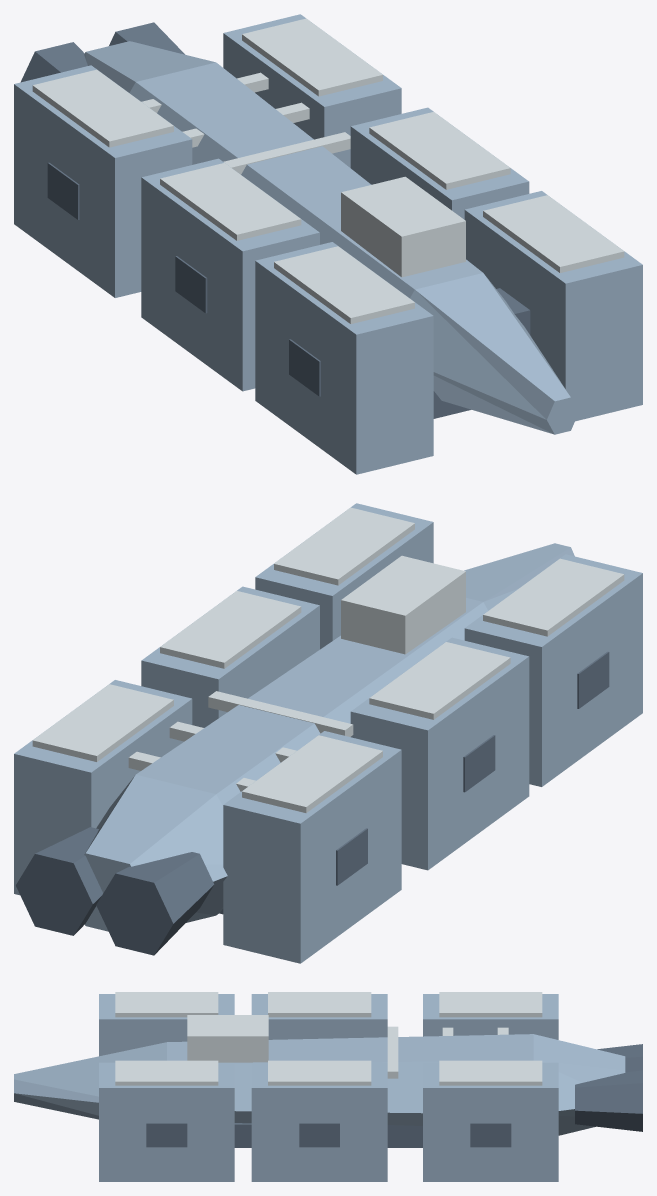
3 views of the same model, one above another, from view 1: azimuth 30°, elevation 25°; view 2: azimuth 150°, elevation 25°; view 3: azimuth 270°, elevation 25° (orthographic). The views are drawn at different scales.
Size of the model in its own units: 3.67 by 1.97 by 10.28.
